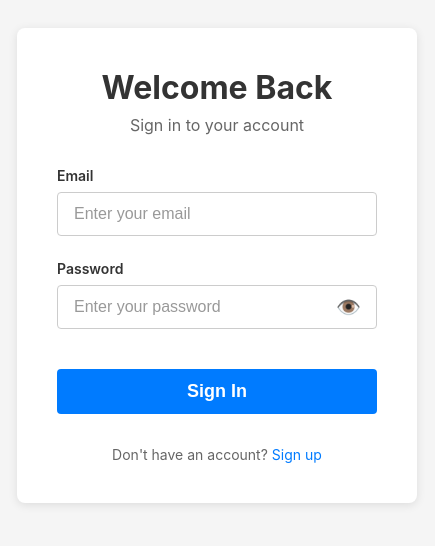
Login Component › clears field errors on input change
Click the button "Sign In". click: [217, 391]
box: x1=57 y1=368 x2=377 y2=414
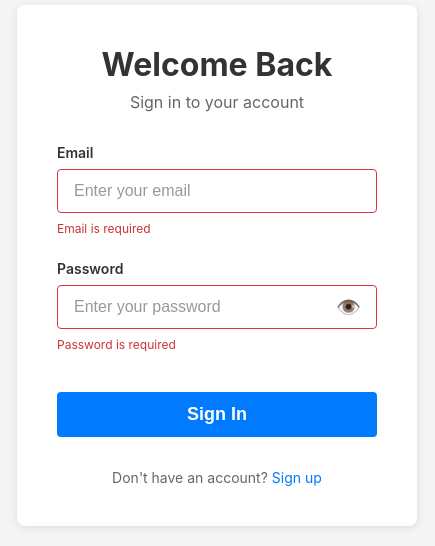
Now the text "Email is required" is shown, box x1=57 y1=220 x2=151 y2=236
Type "test@example.com" into the field labelled "Email". click: [217, 190]
box: x1=57 y1=168 x2=377 y2=212
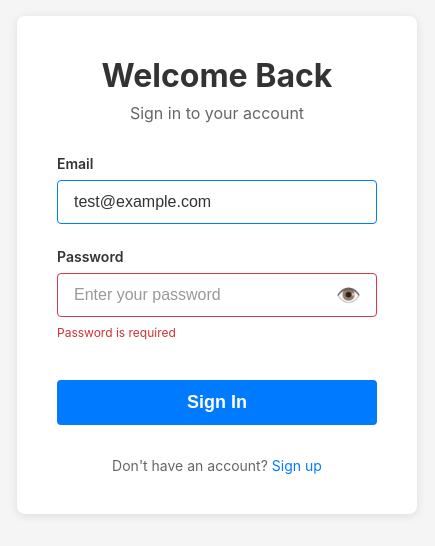
Now the text "Email is required" is gone
